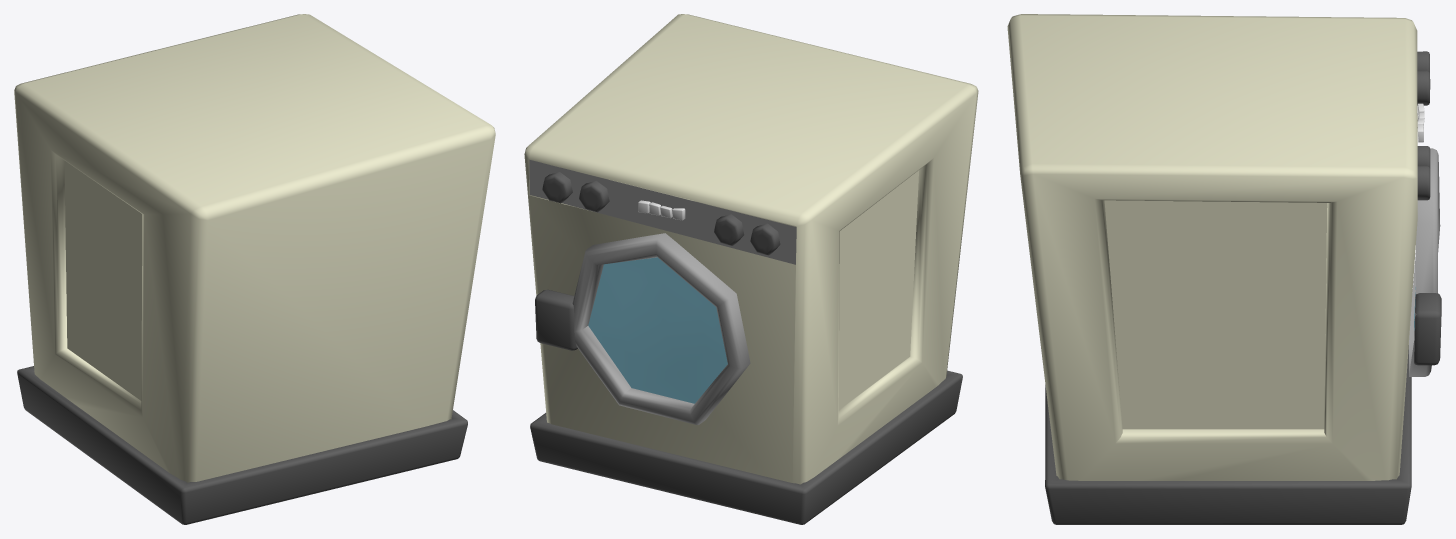
The model's file is props_washingMachine.fbx.
3 renders of one model, left to right at view 1: azimuth 30°, elevation 25°; view 2: azimuth 150°, elevation 25°; view 3: azimuth 270°, elevation 25°, orthographic. The views are drawn at different scales.
Parts seen in each view (by area): view 1: Cylinder.055; view 2: Cylinder.055; view 3: Cylinder.055.
Part boxes in pixels (x1=…): Cylinder.055: x1=14, y1=14, x2=495, y2=524; Cylinder.055: x1=524, y1=14, x2=978, y2=524; Cylinder.055: x1=1007, y1=14, x2=1441, y2=524.
Bounding box in the file's own units: 0.9159 × 1.01 × 0.952.
